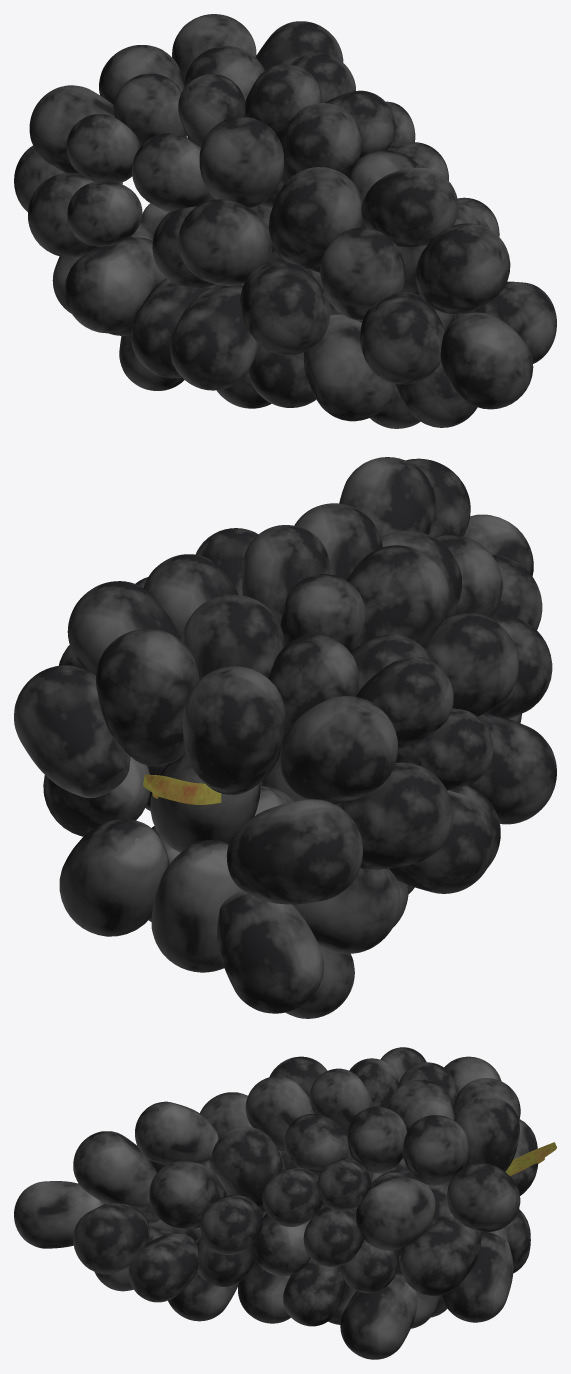
The model's file is grape.glb.
3 views of the same model, one above another, from view 1: azimuth 30°, elevation 25°; view 2: azimuth 150°, elevation 25°; view 3: azimuth 270°, elevation 25° (orthographic). The views are drawn at different scales.
Parts seen in each view (by area): view 1: nurbsToPoly37_27, nurbsToPoly63_52, nurbsToPoly22_16, nurbsToPoly73_62, nurbsToPoly41_31, nurbsToPoly56_45, nurbsToPoly50_39, nurbsToPoly58_47, nurbsToPoly55_44, nurbsToPoly46_36, nurbsToPoly20_14, nurbsToPoly52_41 (+30 smaller); view 2: nurbsToPoly15_10, nurbsToPoly40_30, nurbsToPoly39_29, nurbsToPoly31_22, nurbsToPoly14_9, nurbsToPoly16_11, nurbsToPoly13_8, nurbsToPoly61_50, nurbsToPoly29_21, nurbsToPoly58_47, nurbsToPoly50_39, nurbsToPoly42_32 (+25 smaller); view 3: nurbsToPoly41_31, nurbsToPoly33_24, nurbsToPoly18_12, nurbsToPoly43_33, nurbsToPoly37_27, nurbsToPoly53_42, nurbsToPoly20_14, nurbsToPoly31_22, nurbsToPoly19_13, nurbsToPoly13_8, nurbsToPoly66_55, nurbsToPoly25_18 (+30 smaller).
Part boxes in pixels (x1,y1,x2,y2): nurbsToPoly37_27: (440, 312, 533, 409); nurbsToPoly63_52: (269, 167, 363, 269); nurbsToPoly22_16: (170, 284, 259, 390); nurbsToPoly73_62: (64, 236, 165, 333); nurbsToPoly41_31: (415, 223, 510, 313); nurbsToPoly56_45: (240, 261, 330, 355); nurbsToPoly50_39: (178, 199, 272, 285); nurbsToPoly58_47: (199, 116, 283, 208); nurbsToPoly55_44: (360, 293, 444, 384); nurbsToPoly46_36: (304, 314, 395, 421); nurbsToPoly20_14: (361, 167, 458, 247); nurbsToPoly52_41: (320, 227, 405, 320); nurbsToPoly15_10: (226, 799, 362, 904); nurbsToPoly40_30: (96, 628, 199, 765); nurbsToPoly39_29: (183, 666, 285, 794); nurbsToPoly31_22: (14, 665, 130, 798); nurbsToPoly14_9: (279, 695, 398, 804); nurbsToPoly16_11: (217, 890, 323, 1013); nurbsToPoly13_8: (59, 819, 169, 936); nurbsToPoly61_50: (335, 762, 452, 869); nurbsToPoly29_21: (151, 840, 241, 972); nurbsToPoly58_47: (347, 545, 449, 647); nurbsToPoly50_39: (423, 613, 518, 716); nurbsToPoly42_32: (182, 594, 284, 679); nurbsToPoly41_31: (73, 1131, 156, 1209); nurbsToPoly33_24: (400, 1213, 481, 1296); nurbsToPoly18_12: (340, 1272, 417, 1359); nurbsToPoly43_33: (356, 1177, 435, 1250); nurbsToPoly37_27: (14, 1181, 104, 1248); nurbsToPoly53_42: (73, 1203, 149, 1274); nurbsToPoly20_14: (135, 1101, 218, 1165); nurbsToPoly31_22: (447, 1162, 520, 1231); nurbsToPoly19_13: (211, 1126, 285, 1211); nurbsToPoly13_8: (441, 1231, 513, 1322); nurbsToPoly66_55: (149, 1161, 226, 1228); nurbsToPoly25_18: (403, 1115, 468, 1185).
Size of the model in its own units: 0.452 by 0.4315 by 0.7808.
Materials: 2 (2 with a texture image).
